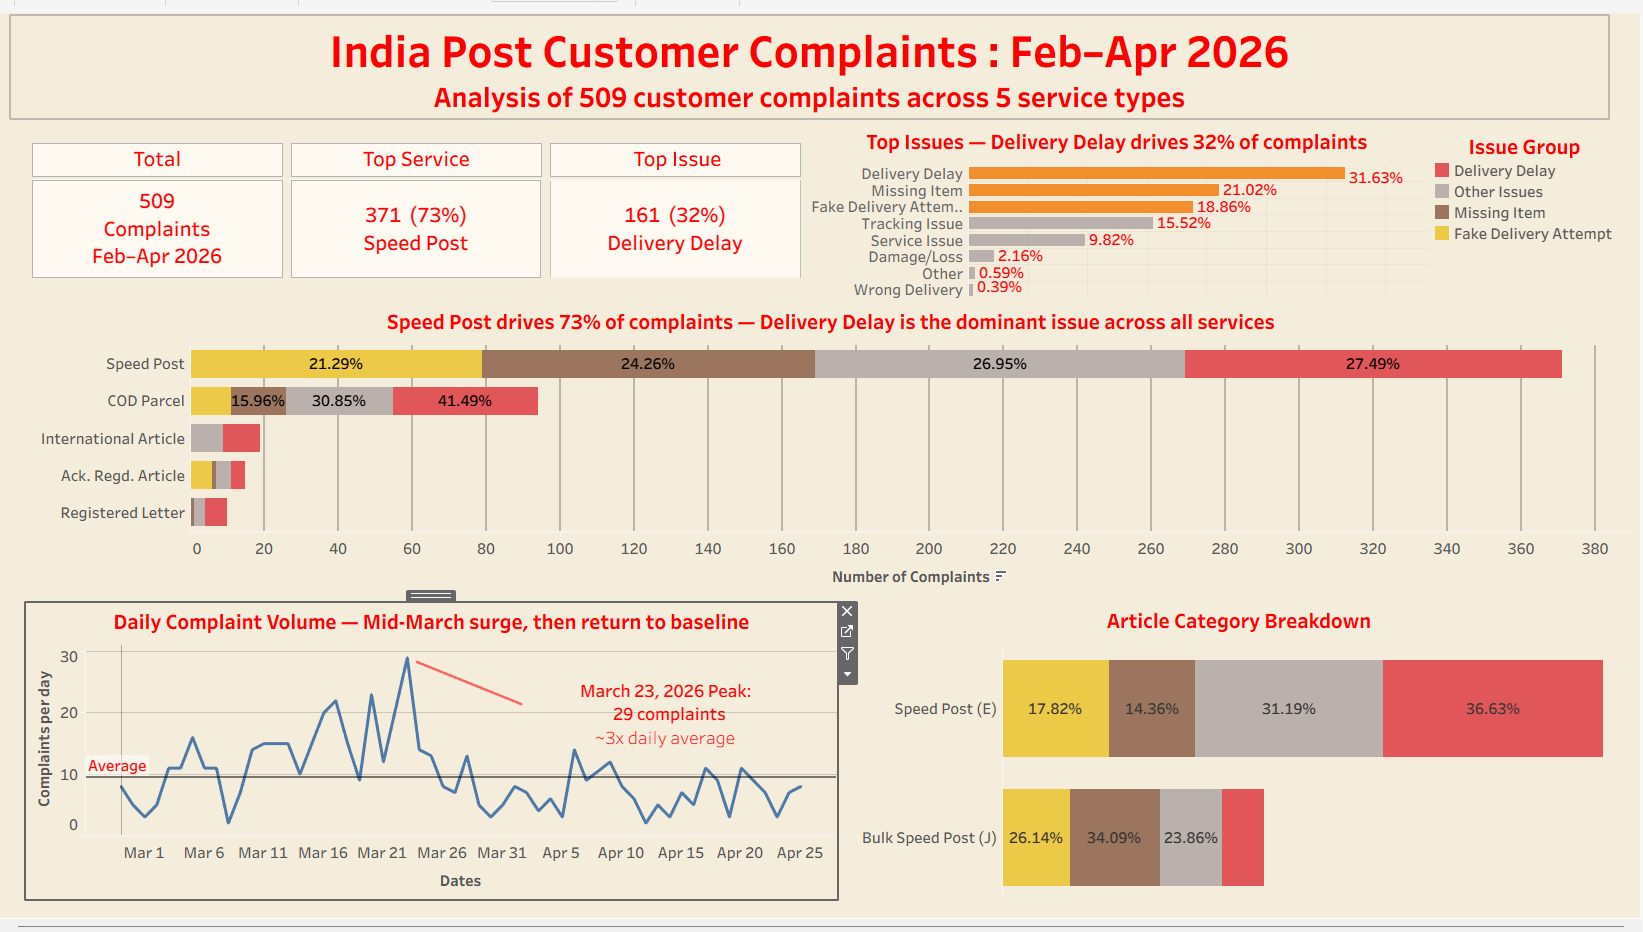

Layout of this report page (visuals, bound fields, positions):
{"tool":"tableau","page":{"name":"Dashboard 1","canvas":[1000,1000],"units":"permille","ordinal":0},"visuals":[{"type":"worksheet","title":"title","mark":"Automatic","box":[7.3,45.7,973.2,87.9]},{"type":"worksheet","title":"Issue by volume","mark":"Automatic","rows":["issue_type"],"box":[493,137.9,376.6,150.9]},{"type":"legend","title":" Speed Post Deep-Dive","param":"[federated.1ayi1jk0w2j0hu19cdozk0iyxkfr].[none:Calculation_1156201835376643:nk]","box":[870.8,142.2,117.6,150.9]},{"type":"worksheet","title":"KPI 1","mark":"Text","box":[17.7,151.7,157.8,123.3]},{"type":"worksheet","title":"KPI 2","mark":"Automatic","cols":["service_type"],"box":[175.5,151.7,157.8,123.3]},{"type":"worksheet","title":"KPI 3","mark":"Automatic","cols":["issue_type"],"box":[333.3,151.7,157.8,123.3]},{"type":"worksheet","title":"Issue by service","mark":"Automatic","rows":["service_type"],"cols":["article_id"],"box":[18.9,293.1,976.2,250.9]},{"type":"worksheet","title":" Speed Post Deep-Dive","mark":"Automatic","rows":["Calculation_1156202067705863"],"cols":["article_id"],"box":[513.7,550.9,483.9,258.6]},{"type":"worksheet","title":"complaint volume","mark":"Automatic","rows":["article_id"],"cols":["date"],"box":[16.4,551.7,494.2,255.2]}]}

Visuals, with their boxes on the dashboard's canvas, which has no fixed pixel size, in thousandths of its width and height (x1, y1, x2, y2). These are canvas units, not pixel positions in the 1643x932 screenshot, which may show the page scaled, cropped or inside an application window:
"title" worksheet: <bbox>7, 46, 980, 134</bbox>
"Issue by volume" worksheet: <bbox>493, 138, 870, 289</bbox>
" Speed Post Deep-Dive" legend: <bbox>871, 142, 988, 293</bbox>
"KPI 1" worksheet (Text marks): <bbox>18, 152, 176, 275</bbox>
"KPI 2" worksheet: <bbox>176, 152, 333, 275</bbox>
"KPI 3" worksheet: <bbox>333, 152, 491, 275</bbox>
"Issue by service" worksheet: <bbox>19, 293, 995, 544</bbox>
" Speed Post Deep-Dive" worksheet: <bbox>514, 551, 998, 810</bbox>
"complaint volume" worksheet: <bbox>16, 552, 511, 807</bbox>
